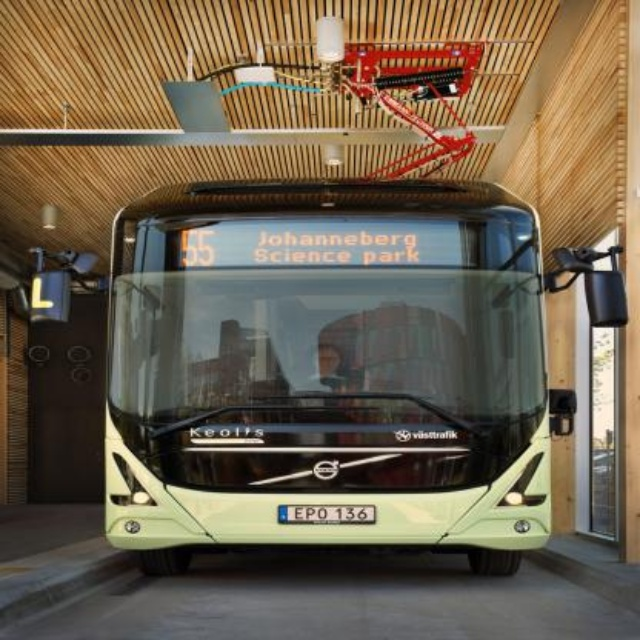Bus: (15, 178, 631, 576)
